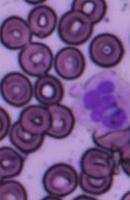N: (74, 68, 130, 135)
